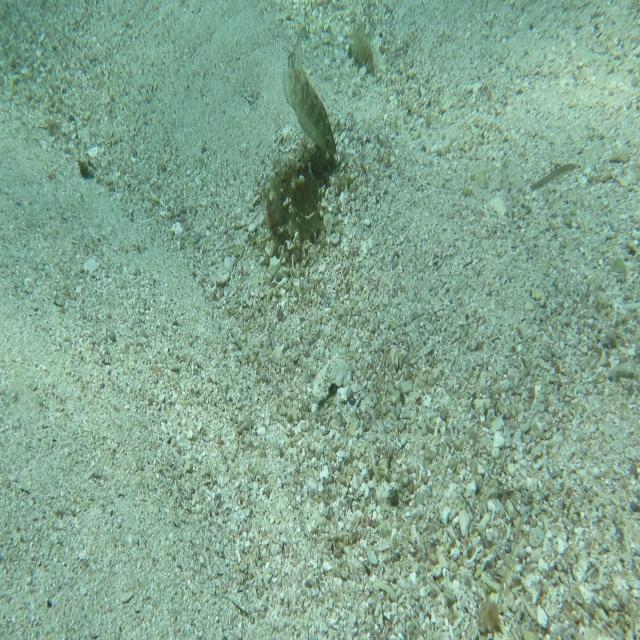NIP_IN: (281, 20, 340, 157)
core_nest: (295, 154, 330, 189)
nest: (262, 140, 342, 275)
vegetation: (348, 20, 375, 82), (529, 160, 578, 193), (76, 152, 88, 180)
